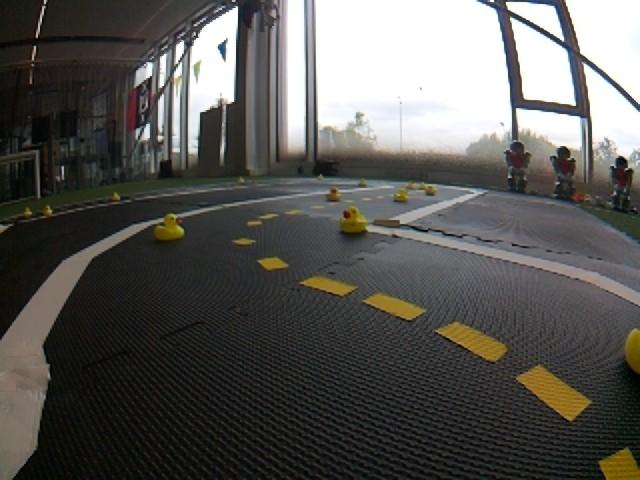Duckies: (338, 207, 371, 234), (154, 215, 185, 241), (625, 328, 640, 374), (394, 189, 410, 202), (327, 187, 343, 200), (418, 181, 427, 190), (23, 208, 33, 216), (44, 207, 54, 215), (427, 186, 437, 194), (111, 192, 120, 200), (360, 178, 367, 186), (406, 182, 416, 187), (317, 174, 324, 181), (239, 176, 244, 182)
